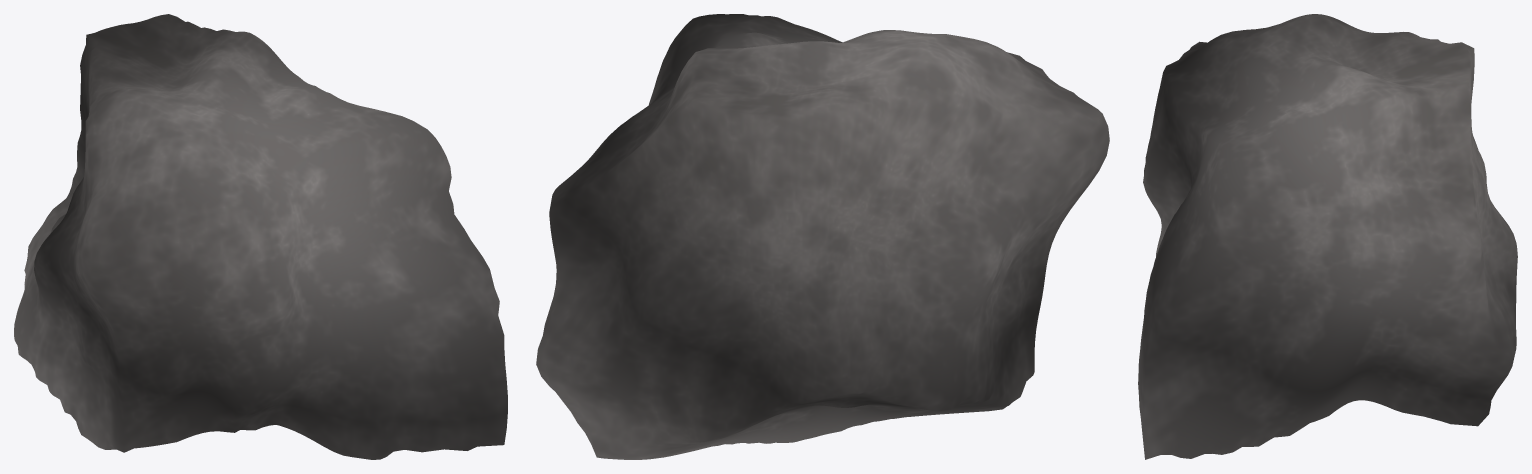
File: asteroid-slab.glb
3 renders of one model, left to right at view 1: azimuth 30°, elevation 25°; view 2: azimuth 150°, elevation 25°; view 3: azimuth 270°, elevation 25°, orthographic. The views are drawn at different scales.
Visible parts, largest first — view 1: asteroid_5008; view 2: asteroid_5008; view 3: asteroid_5008.
Boxes of the visible parts, x1,y1,x2,y2 form: asteroid_5008: [14, 14, 507, 459]; asteroid_5008: [536, 14, 1109, 459]; asteroid_5008: [1138, 14, 1517, 459].
Size of the model in its own units: 71.99 by 63.57 by 66.95.
1 material, 1 textured.
